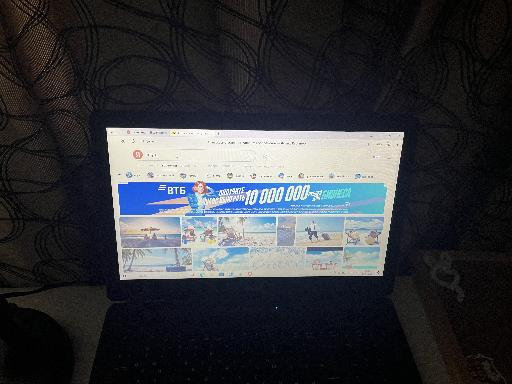yandex: (112, 146, 390, 275)
